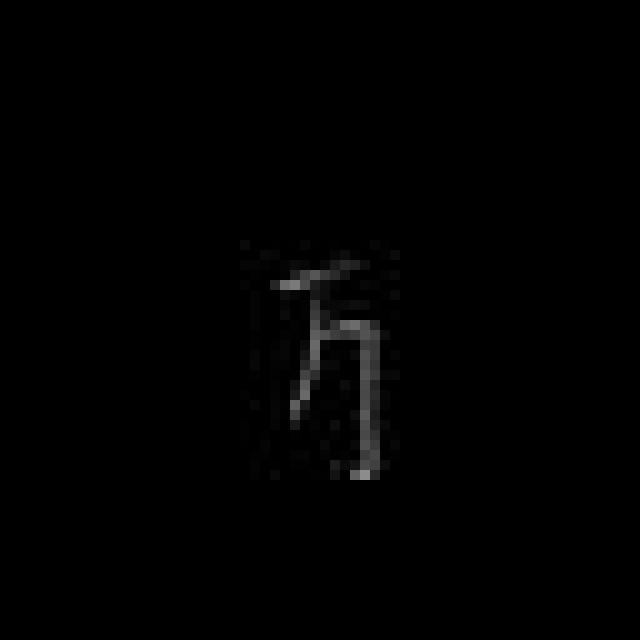10000 -a ten thousand-: (261, 245, 395, 497)
